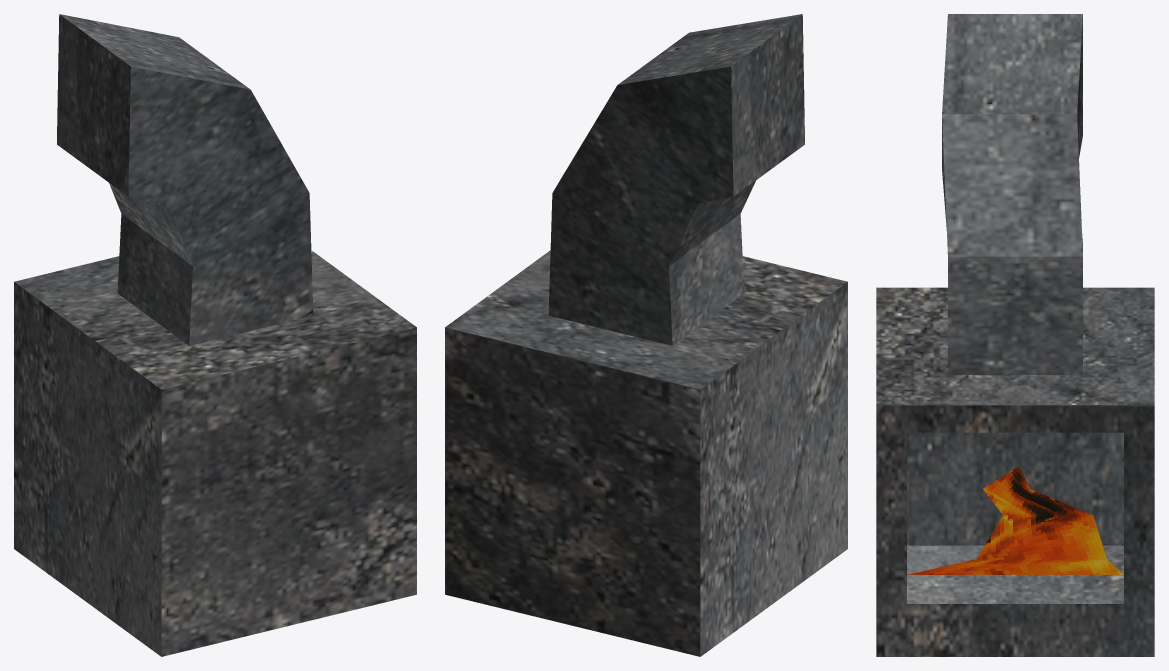
The model's file is hässlicher ofen.fbx.
3 views of the same model, side by side, from view 1: azimuth 30°, elevation 25°; view 2: azimuth 150°, elevation 25°; view 3: azimuth 270°, elevation 25° (orthographic). The views are drawn at different scales.
Parts seen in each view (by area): view 1: Cube; view 2: Cube; view 3: Cube.
Part boxes in pixels (left/top/right/bottom): Cube: left=14, top=14, right=416, bottom=656; Cube: left=445, top=14, right=847, bottom=656; Cube: left=876, top=14, right=1154, bottom=656.
Size of the model in its own units: 200 by 420 by 200.
Materials: 2 (2 with a texture image).
